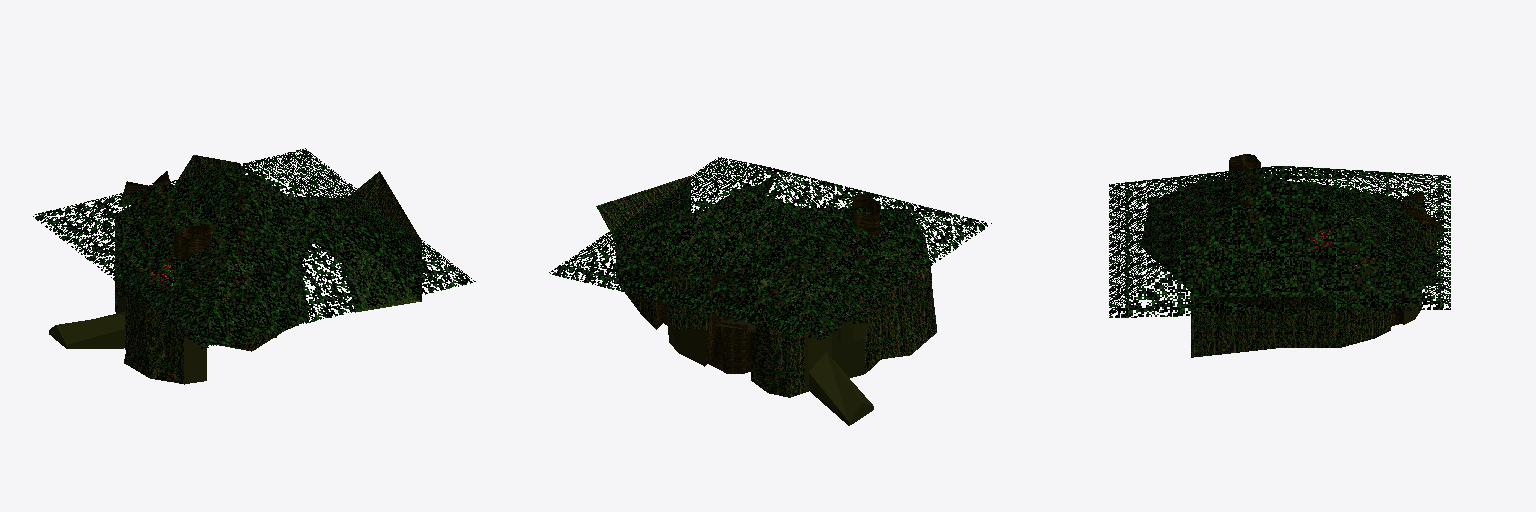
3 views of the same model, side by side, from view 1: azimuth 30°, elevation 25°; view 2: azimuth 150°, elevation 25°; view 3: azimuth 270°, elevation 25° (orthographic).
Parts seen in each view (by area): view 1: forest1; view 2: forest1; view 3: forest1.
Part boxes in pixels (x1,y1,x2,y2): forest1: (33,148,475,384); forest1: (549,157,991,425); forest1: (1109,154,1450,357).
Bounding box in the file's own units: 6.57 × 3.79 × 6.59.
Materials: 10 (7 with a texture image).